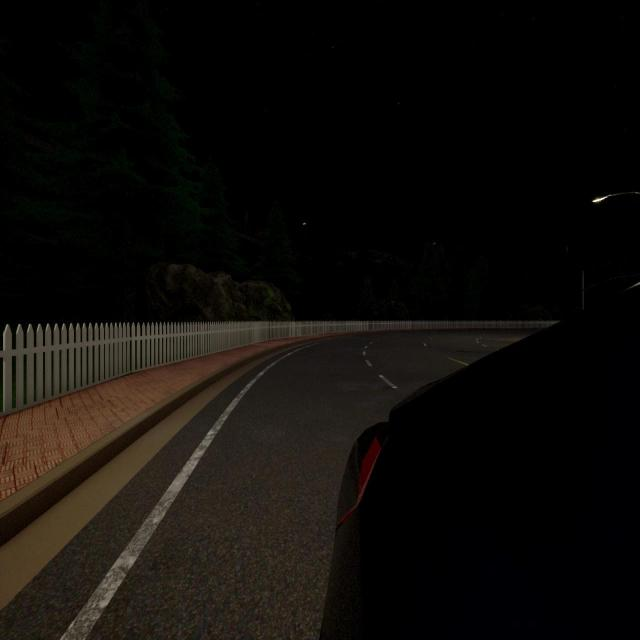Vehicle: (314, 260, 640, 640)
